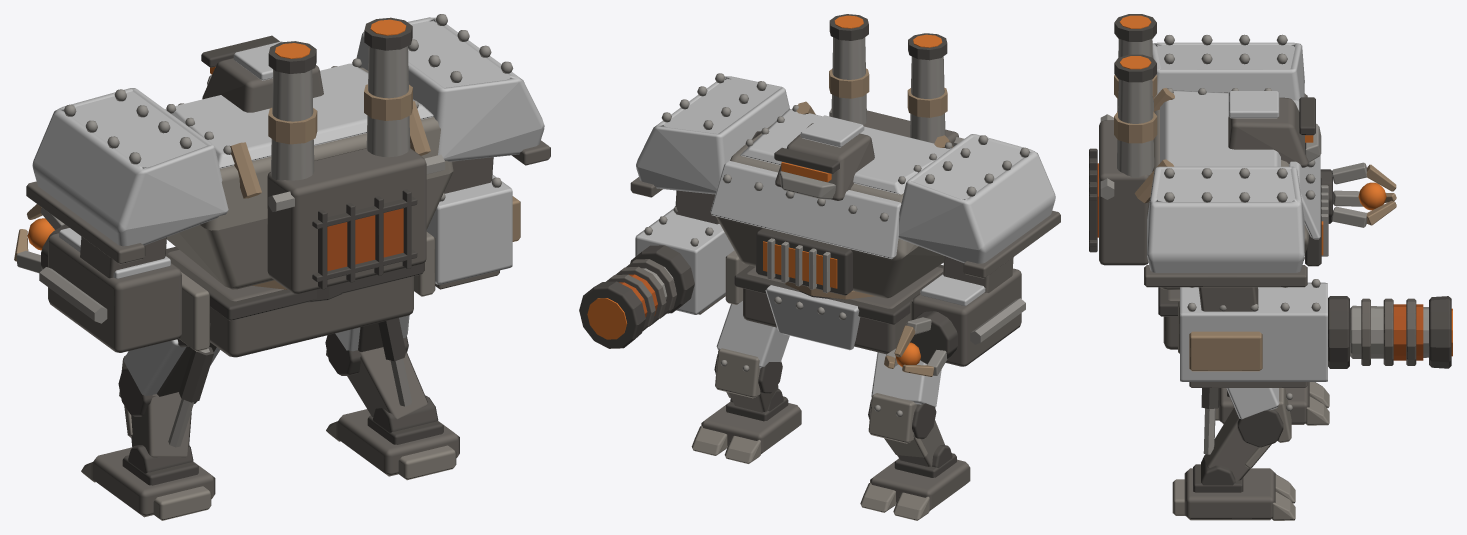
Rendered from crucible_commander.glb.
3 renders of one model, left to right at view 1: azimuth 30°, elevation 25°; view 2: azimuth 150°, elevation 25°; view 3: azimuth 270°, elevation 25°, orthographic. The views are drawn at different scales.
Visible parts, largest first — view 1: Turret, Body; view 2: Turret, Body; view 3: Turret, Body.
Part boxes in pixels (x1,y1,x2,y2): Turret: [14, 14, 550, 352]; Body: [81, 232, 459, 520]; Turret: [579, 14, 1060, 376]; Body: [691, 250, 970, 520]; Turret: [1089, 14, 1452, 387]; Body: [1158, 257, 1329, 520].
Size of the model in its own units: 1.54 by 1.63 by 1.29.
